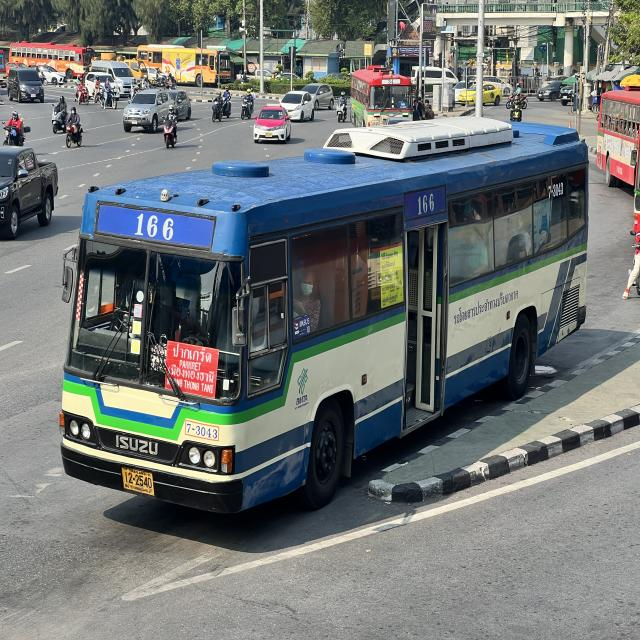BMTA-bus: (58, 119, 590, 516), (592, 72, 640, 208), (351, 61, 415, 130)
Bus-Line-Number: (131, 210, 177, 242)
Destination-Sign-Extra-Bus: (165, 340, 217, 399)
